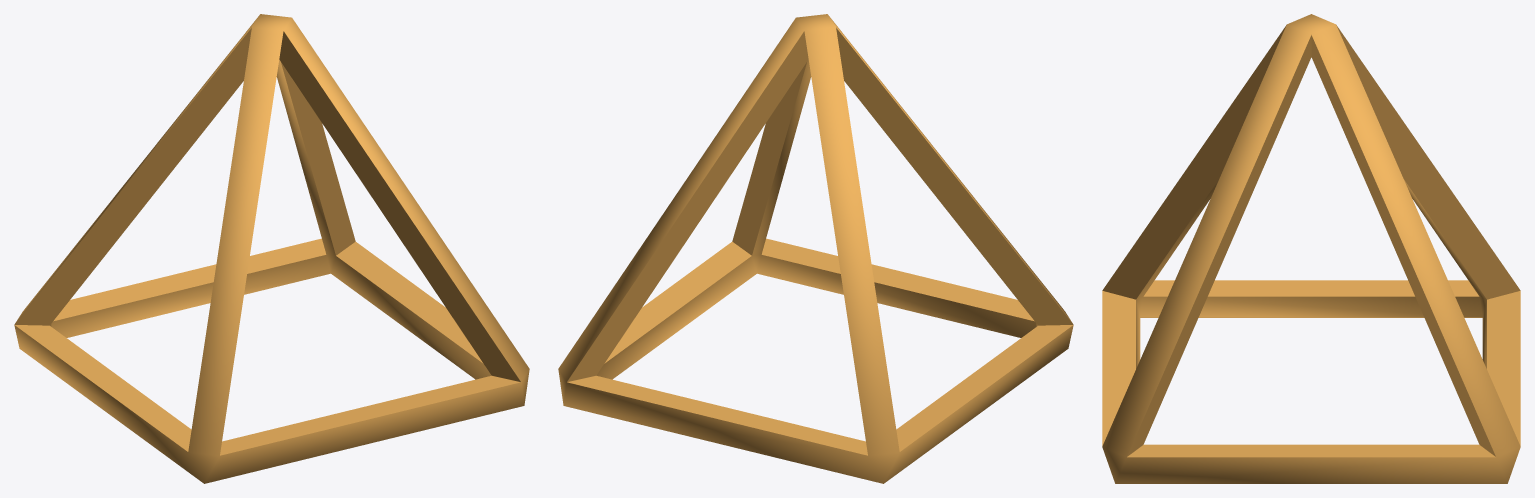
The model's file is PyramidMesh_4P.fbx.
3 renders of one model, left to right at view 1: azimuth 30°, elevation 25°; view 2: azimuth 150°, elevation 25°; view 3: azimuth 270°, elevation 25°, orthographic. The views are drawn at different scales.
Parts seen in each view (by area): view 1: PyramidMesh_4P; view 2: PyramidMesh_4P; view 3: PyramidMesh_4P.
Part boxes in pixels (box(x1,y1,x2,y2)): PyramidMesh_4P: box(14, 14, 529, 483); PyramidMesh_4P: box(558, 14, 1073, 483); PyramidMesh_4P: box(1102, 14, 1520, 483).
Bounding box in the file's own units: 277 × 275 × 277.
